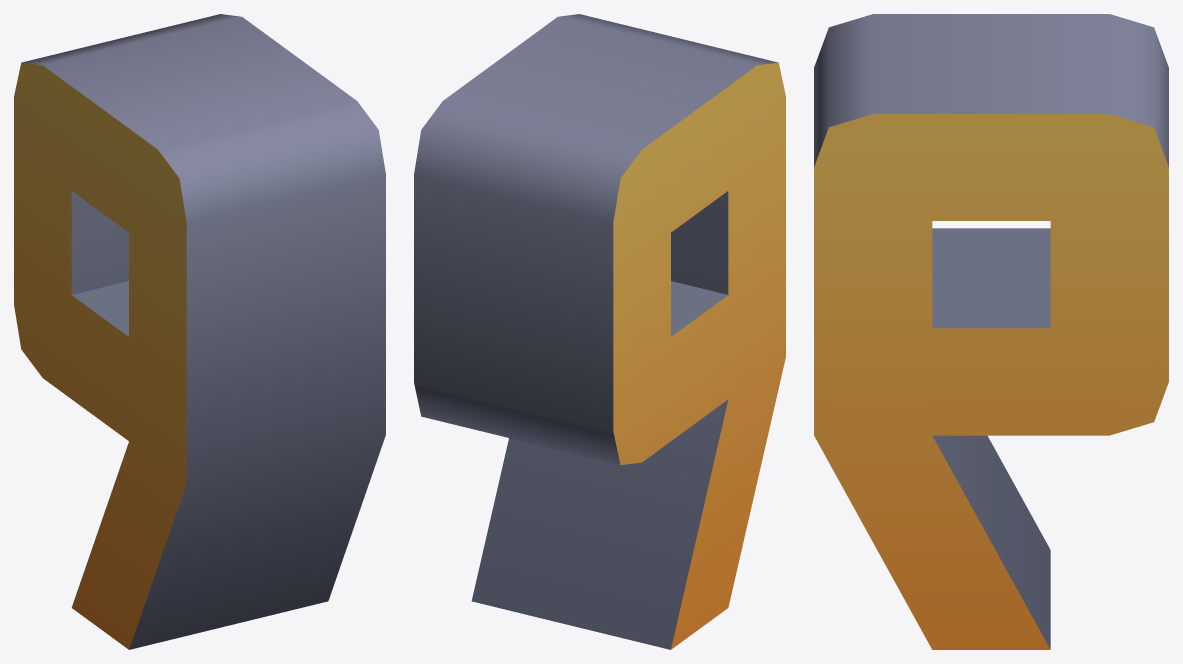
The model's file is kenney-prototype-number-9.glb.
3 views of the same model, side by side, from view 1: azimuth 30°, elevation 25°; view 2: azimuth 150°, elevation 25°; view 3: azimuth 270°, elevation 25° (orthographic). The views are drawn at different scales.
Visible parts, largest first — view 1: number-9; view 2: number-9; view 3: number-9.
Part boxes in pixels (box(x1,y1,x2,y2)): number-9: box(14, 14, 385, 649); number-9: box(414, 14, 785, 649); number-9: box(814, 14, 1168, 649).
Bounding box in the file's own units: 0.2 × 0.5 × 0.3.
1 material, 1 textured.
